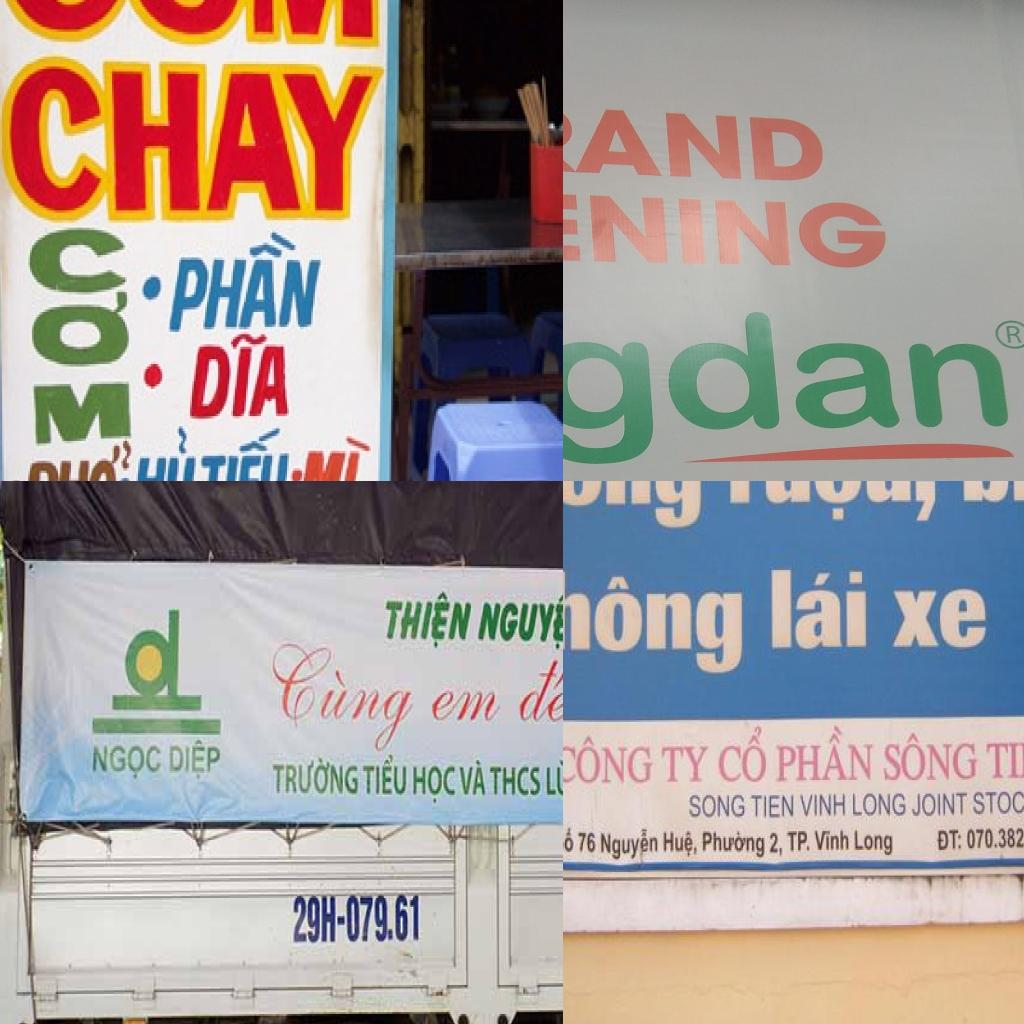text: (0, 51, 391, 230), (660, 306, 1012, 431), (563, 186, 888, 267), (563, 97, 829, 183), (0, 0, 392, 56), (563, 568, 745, 677), (166, 228, 330, 334), (271, 640, 420, 754), (187, 329, 298, 421), (726, 481, 941, 525), (767, 567, 871, 655), (26, 290, 134, 372), (30, 366, 138, 448), (21, 225, 132, 302), (563, 481, 704, 532), (771, 720, 875, 785), (197, 416, 296, 481), (890, 587, 988, 649), (384, 586, 475, 652), (880, 730, 977, 787), (126, 413, 203, 481), (478, 591, 563, 651), (563, 730, 654, 786), (22, 438, 138, 481), (296, 423, 378, 481), (268, 755, 360, 798), (716, 724, 769, 786), (517, 653, 563, 723), (429, 686, 507, 726), (92, 744, 163, 784), (290, 894, 340, 945), (167, 738, 221, 784), (986, 718, 1024, 783), (361, 751, 409, 798), (661, 742, 710, 787), (598, 828, 661, 862), (702, 828, 766, 860), (410, 764, 456, 807), (490, 764, 542, 800), (850, 790, 908, 818), (912, 790, 968, 819), (965, 824, 1024, 851), (852, 826, 896, 862), (972, 790, 1024, 819), (686, 795, 746, 819), (747, 794, 795, 822), (458, 757, 489, 798), (799, 792, 848, 817), (662, 828, 700, 860), (812, 826, 852, 855), (934, 824, 963, 854), (544, 754, 563, 798), (786, 829, 814, 857), (577, 829, 597, 855), (768, 829, 784, 857), (563, 822, 576, 856), (1006, 324, 1024, 345)
